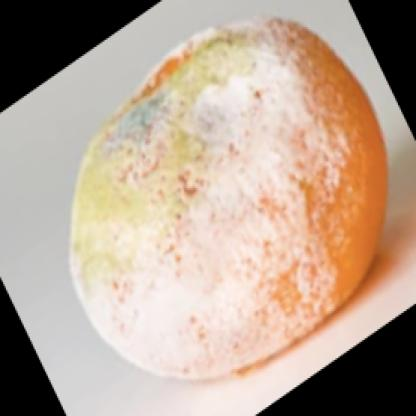rotten: (72, 19, 390, 381)
